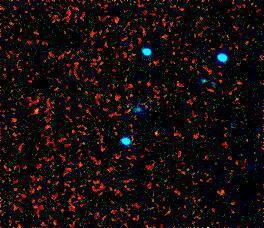star: (21, 96, 51, 126)
